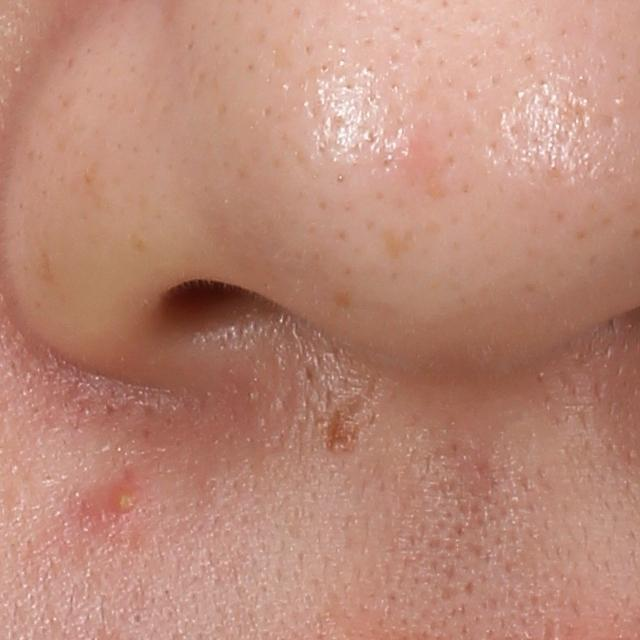comedo: (128, 605, 147, 626)
pustule: (105, 484, 144, 518)
